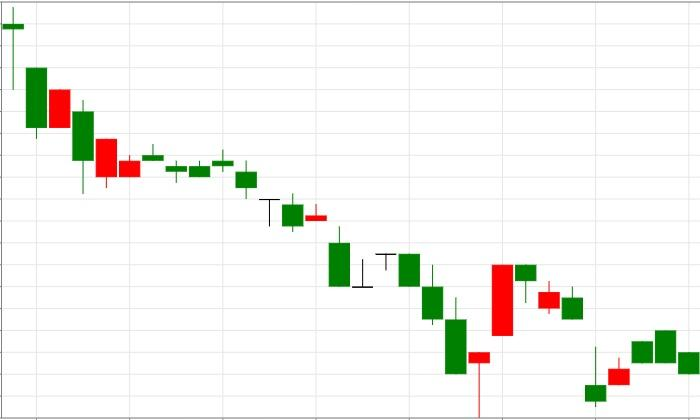inverse_hammer_rise: (515, 263, 606, 407)
